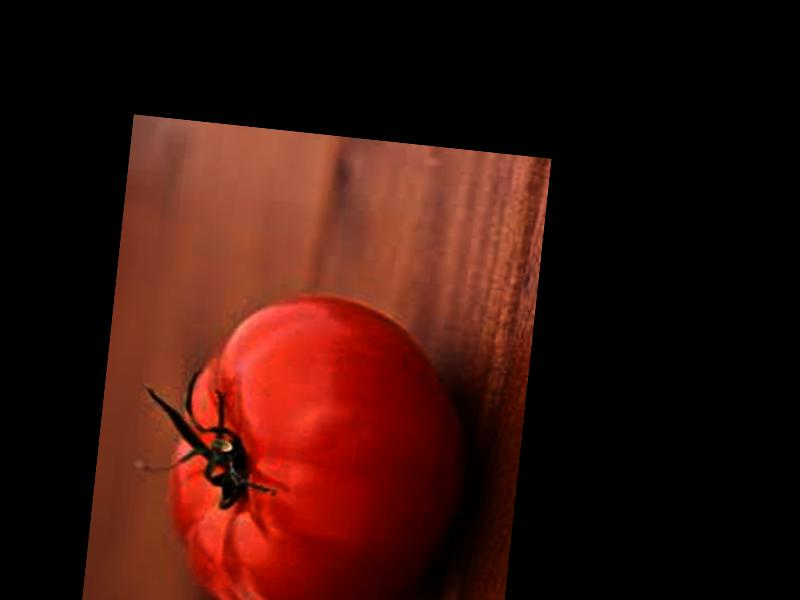Tomato: (156, 279, 482, 600)
